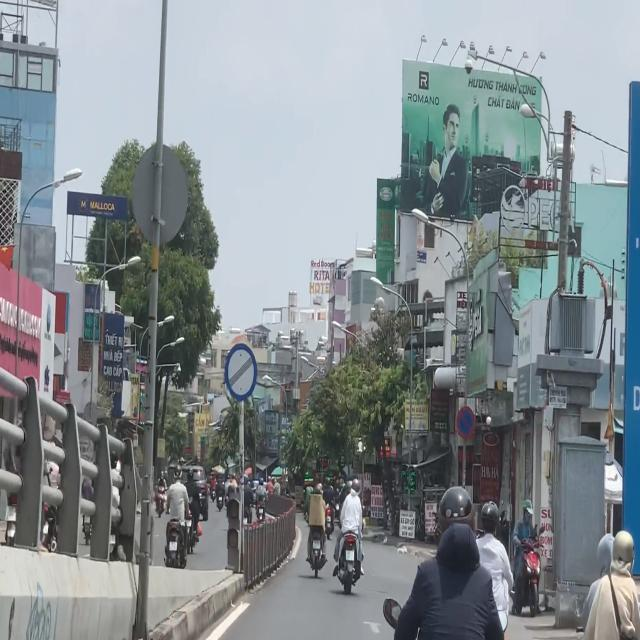Cam do: (456, 406, 475, 441)
Het tat ca lenh cam: (224, 340, 258, 406)
